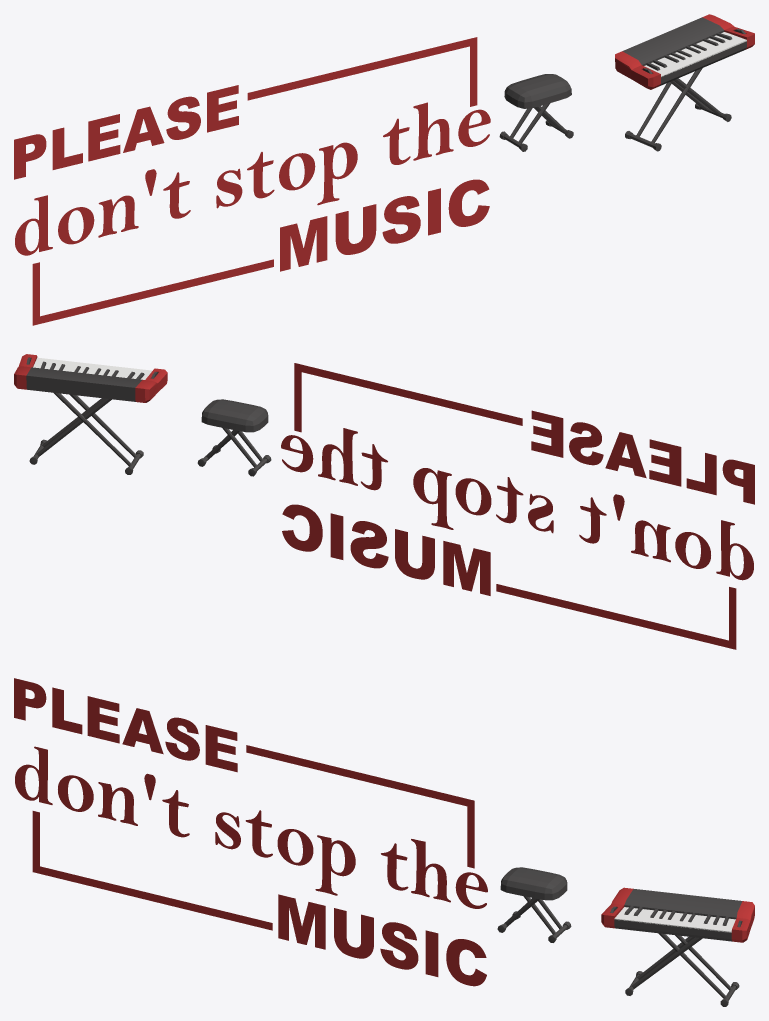
File: please dont stop music.fbx
The picture shows the model from 3 angles, top to bottom: view 1: azimuth 30°, elevation 25°; view 2: azimuth 150°, elevation 25°; view 3: azimuth 330°, elevation 25°; orthographic projection.
Visible parts, largest first — view 1: please dont stop music.001, Piano, Piano table; view 2: please dont stop music.001, Piano, Piano table; view 3: please dont stop music.001, Piano, Piano table.
Part boxes in pixels (<box>): please dont stop music.001: <box>14,37,490,325</box>; Piano: <box>615,14,754,151</box>; Piano table: <box>499,74,573,151</box>; please dont stop music.001: <box>281,363,754,649</box>; Piano: <box>14,354,167,474</box>; Piano table: <box>197,399,271,476</box>; please dont stop music.001: <box>14,678,487,986</box>; Piano: <box>601,887,754,1006</box>; Piano table: <box>497,867,571,942</box>.
Bounding box in the file's own units: 595 × 153 × 64.95.
